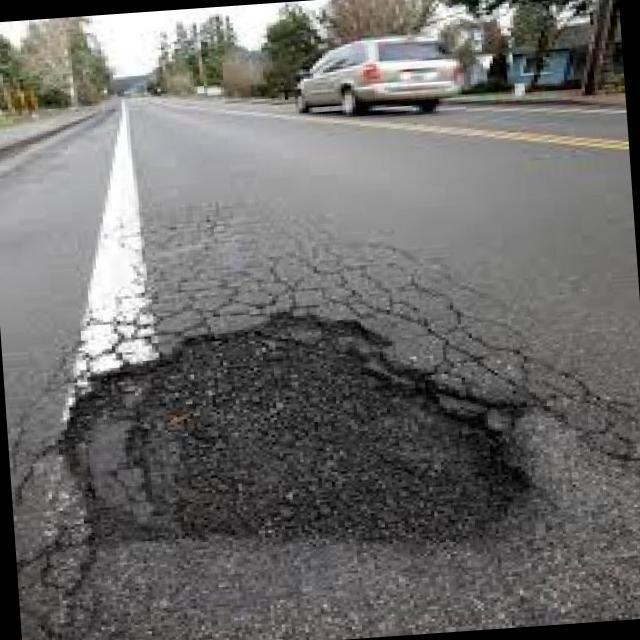Burst: (52, 317, 560, 539)
